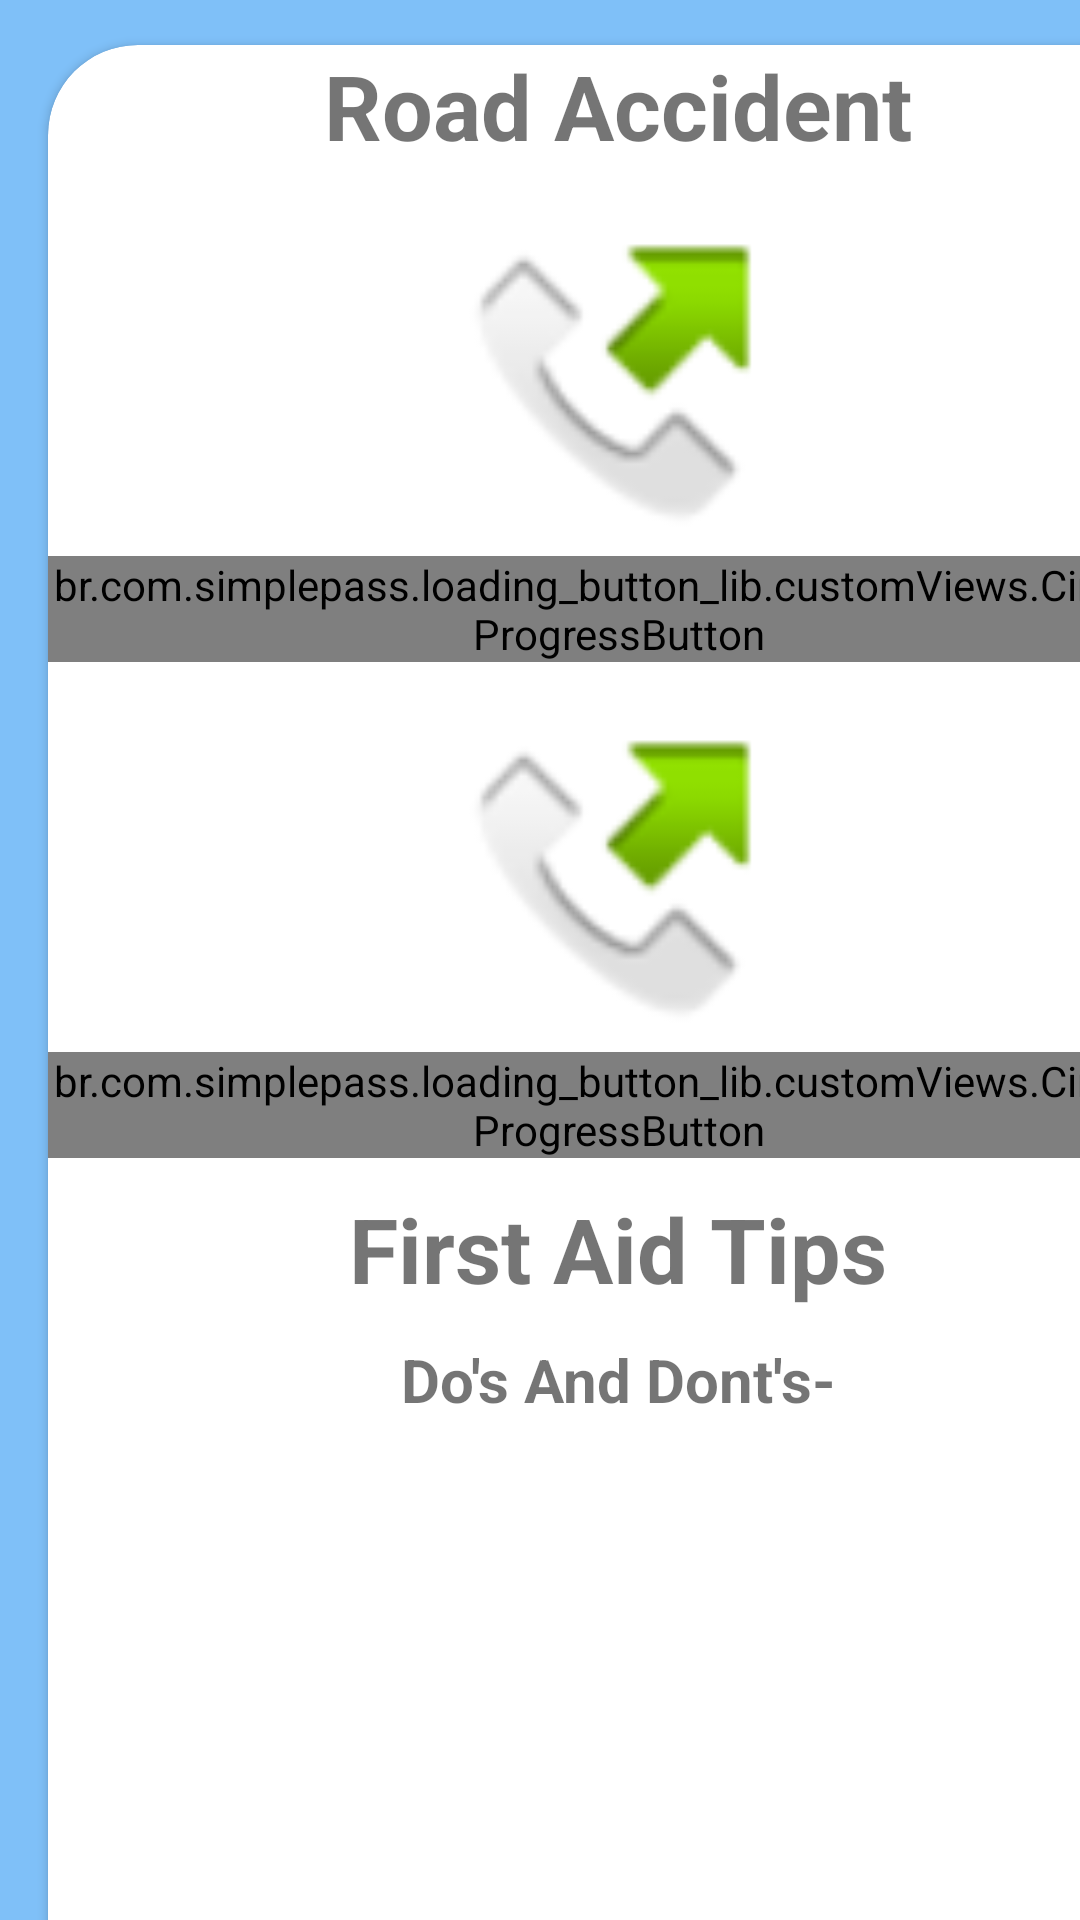

Point at icon controls on the screen. Image size 1080w x 1920h, points as (x,y).
sym call outgoing: (616,377), (616,873)
